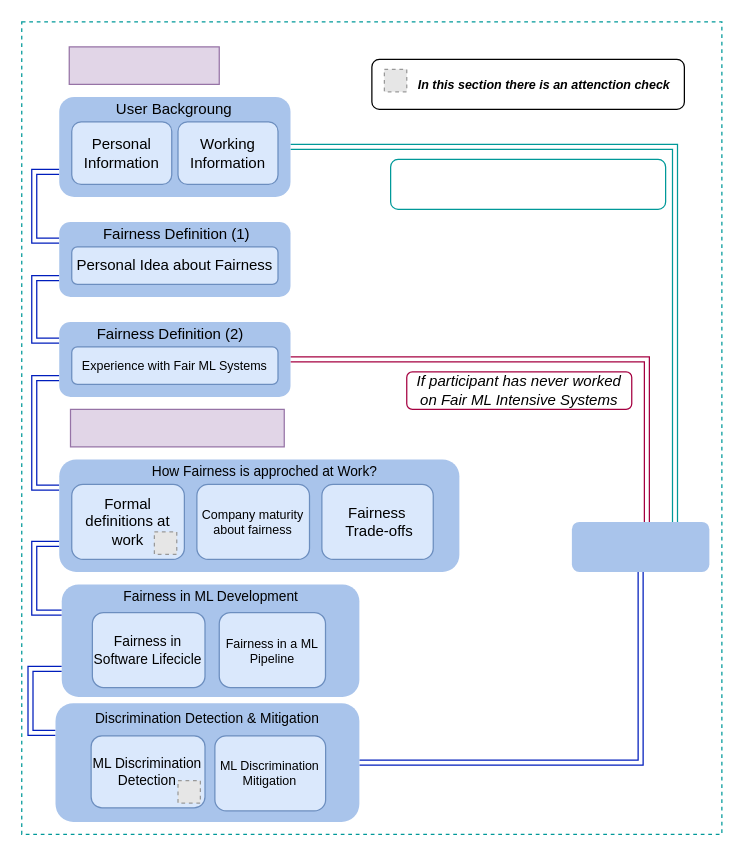
The diagram is 745 pixels wide and 856 high, and some of its shapes have lost their labels. Grey dashed boxes stand in for pictures. Here are the shapes that lost their labels. From the top down, the box of each, then its label:
(68, 46, 219, 84): Survey Introduction
(389, 158, 666, 209): If participant has never worked on ML Intensive Systems
(69, 408, 284, 447): Generical Fairness Definition
(571, 521, 709, 571): Contacts & Greething
